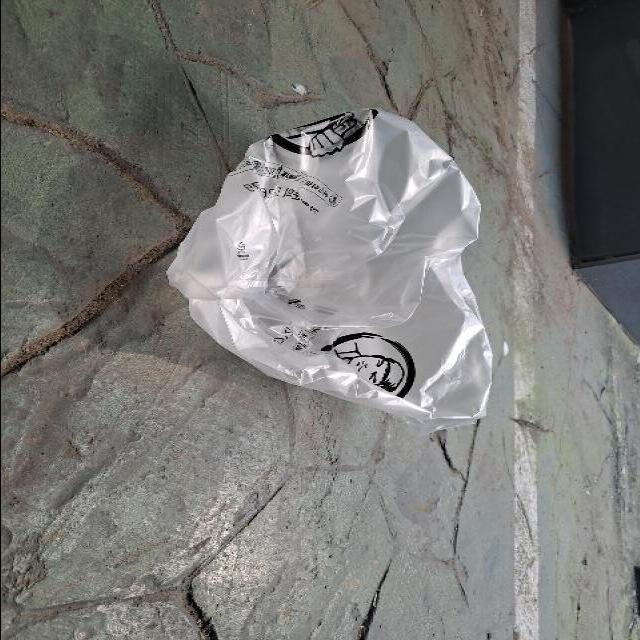plastic bag: (160, 104, 497, 424)
